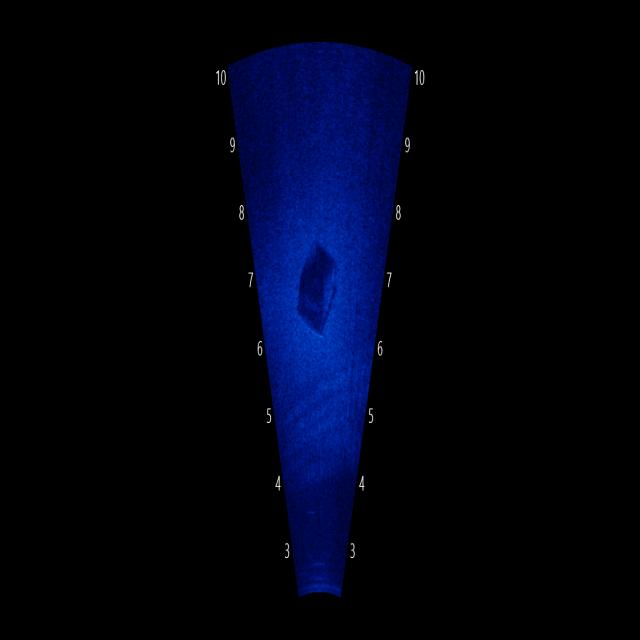square: (292, 238, 345, 347)
